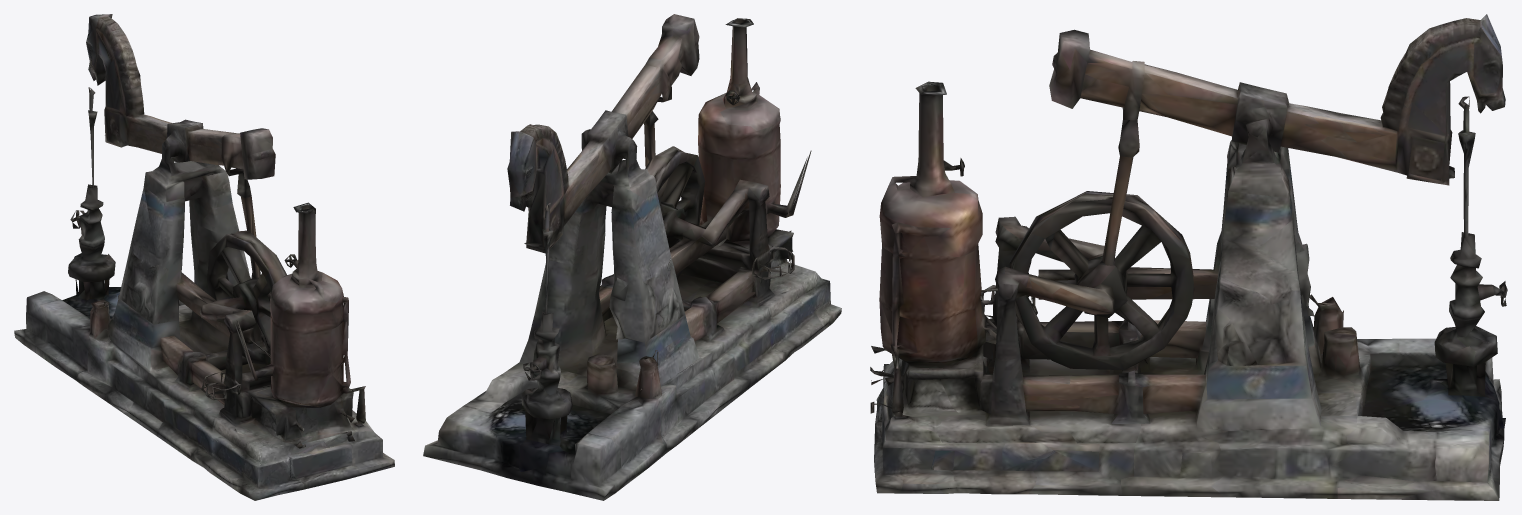
The model's file is oil_well_1.glb.
3 views of the same model, side by side, from view 1: azimuth 30°, elevation 25°; view 2: azimuth 150°, elevation 25°; view 3: azimuth 270°, elevation 25° (orthographic). The views are drawn at different scales.
Parts seen in each view (by area): view 1: tripo_node_b64cc2ba-2056-4a8d-970a-7ff0eeca274b; view 2: tripo_node_b64cc2ba-2056-4a8d-970a-7ff0eeca274b; view 3: tripo_node_b64cc2ba-2056-4a8d-970a-7ff0eeca274b.
Boxes of the visible parts, box(x1,y1,x2,y2) form: tripo_node_b64cc2ba-2056-4a8d-970a-7ff0eeca274b: box(14, 14, 394, 500); tripo_node_b64cc2ba-2056-4a8d-970a-7ff0eeca274b: box(423, 14, 841, 500); tripo_node_b64cc2ba-2056-4a8d-970a-7ff0eeca274b: box(870, 14, 1507, 500).
Bounding box in the file's own units: 0.399 × 0.7085 × 0.9659.
1 material, 1 textured.
